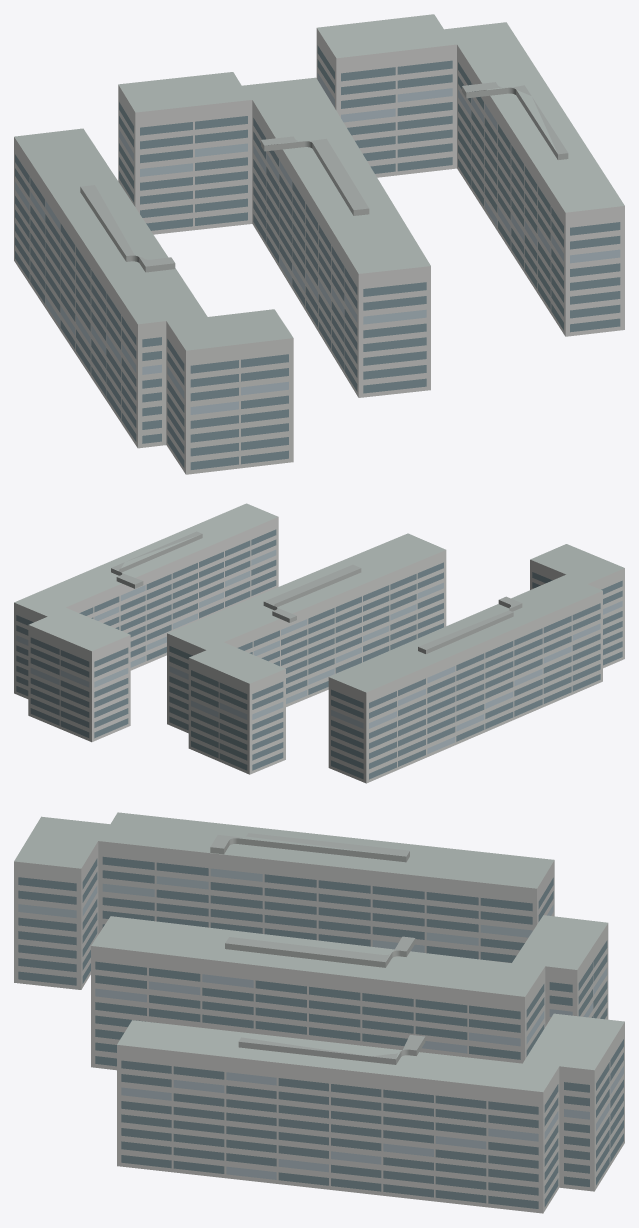
The model's file is apt-a13985402.glb.
3 views of the same model, one above another, from view 1: azimuth 30°, elevation 25°; view 2: azimuth 150°, elevation 25°; view 3: azimuth 270°, elevation 25° (orthographic). The views are drawn at different scales.
Visible parts, largest first — view 1: apt-a13985402; view 2: apt-a13985402; view 3: apt-a13985402.
Boxes of the visible parts, x1=… form: apt-a13985402: x1=14, y1=14, x2=624, y2=474; apt-a13985402: x1=14, y1=503, x2=624, y2=783; apt-a13985402: x1=14, y1=812, x2=624, y2=1213.
Size of the model in its own units: 118 by 25 by 109.
